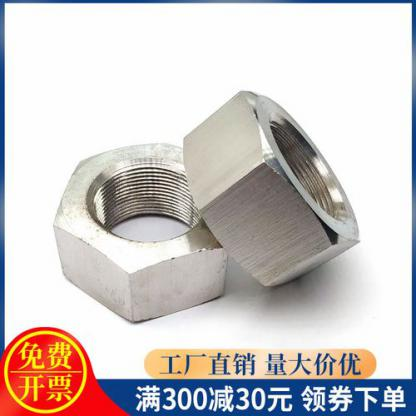FOD: (181, 89, 361, 291), (51, 132, 233, 326)
